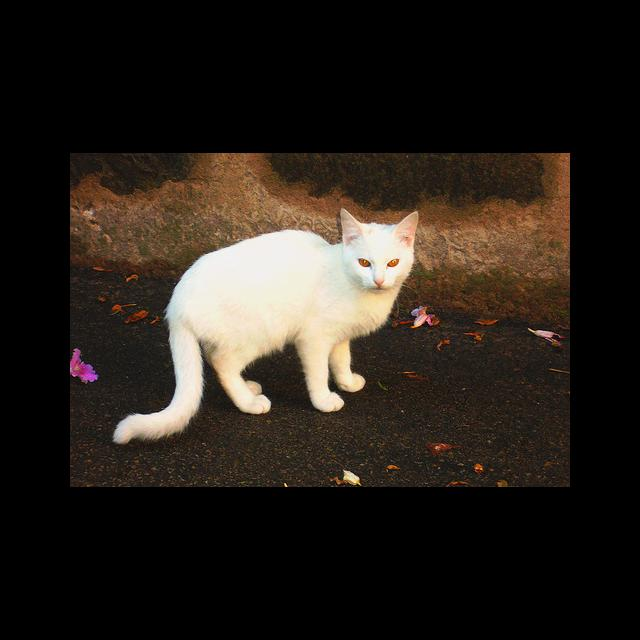animals: (342, 209, 416, 285)
